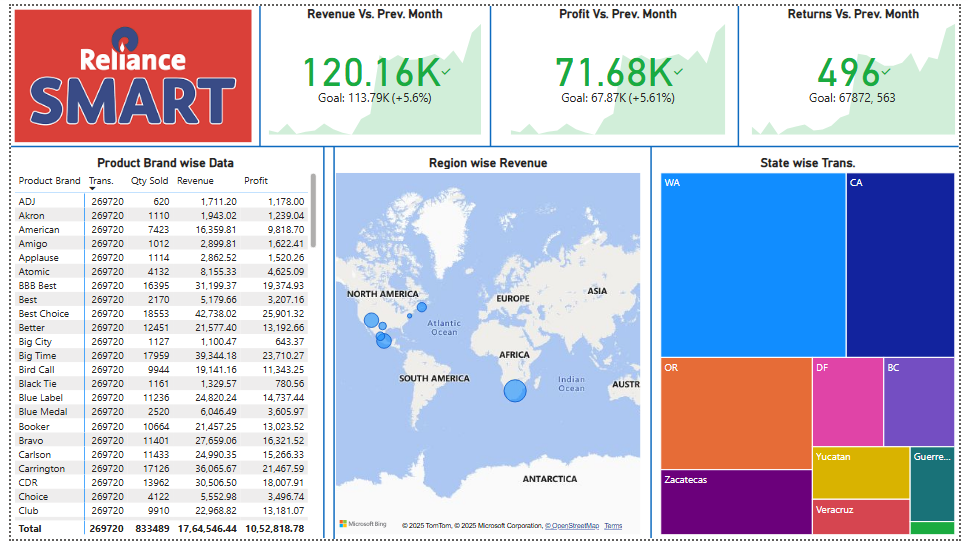

Layout of this report page (visuals, bound fields, positions):
{"tool":"powerbi","page":{"name":"Primary Report","canvas":[1280,720],"ordinal":0},"visuals":[{"type":"image","box":[0,0,329.9,189.6],"z":0},{"type":"shape","box":[0,110.4,1280.6,158.2],"z":1},{"type":"pivotTable","title":"Product Brand wise Data","fields":{"Rows":["d_Products.product_brand"],"Values":["Measures (2).M_All_Transactions","Measures (2).M_Quantity_Sold","Measures (2).M_Total_Revenue","Measures (2).M_Total_Profit"]},"box":[0,201.5,417.9,517.9],"z":2},{"type":"shape","box":[417.9,189.6,10.4,529.9],"z":3},{"type":"map","title":"Region wise Revenue","fields":{"Category":["d_Regions.sales_region"],"Size":["Measures (2).M_Total_Revenue"]},"box":[434.3,201.5,422.4,517.9],"z":4},{"type":"shape","box":[427.9,190.1,16.4,529.9],"z":5},{"type":"shape","box":[856.7,189.6,16.4,529.9],"z":6},{"type":"treemap","title":"State wise Trans.","fields":{"Group":["d_Stores.store_state"],"Values":["Measures (2).M_Total_Transactions"]},"box":[873.1,201.5,407.5,517.9],"z":7},{"type":"shape","box":[329.9,0,13.4,189.6],"z":8},{"type":"kpi","title":"Revenue Vs. Prev. Month","fields":{"Indicator":["Measures (2).M_Total_Revenue"],"TrendLine":["d_Calendar.Start of Month"],"Goal":["Measures (2).M_Previous_Month_Revenue"]},"box":[343.3,0,297,179.1],"z":9},{"type":"shape","box":[640.3,0,14.9,189.6],"z":10},{"type":"kpi","title":"Profit Vs. Prev. Month","fields":{"Indicator":["Measures (2).M_Total_Profit"],"Goal":["Measures (2).M_Previous_Month_Profit"],"TrendLine":["d_Calendar.Start of Month"]},"box":[670.1,0,300,179.1],"z":11},{"type":"shape","box":[970.1,0,25.4,189.6],"z":13},{"type":"kpi","title":"Returns Vs. Prev. Month","fields":{"Goal":["Measures (2).M_Previous_Month_Profit","Measures (2).M_Previous_Month_Returns"],"TrendLine":["d_Calendar.Start of Month"],"Indicator":["Measures (2).M_Total_Returns"]},"box":[995.5,0,285.1,179.1],"z":14}]}

Visuals, with their boxes in screenshot pixels (x1, y1, x2, y2), scaled from the page's 1280x720 canvas onto the 968x547 screenshot:
image: bbox=[0, 0, 249, 144]
shape: bbox=[0, 84, 967, 204]
"Product Brand wise Data" pivotTable: bbox=[0, 153, 316, 546]
shape: bbox=[316, 144, 324, 546]
"Region wise Revenue" map: bbox=[328, 153, 648, 546]
shape: bbox=[324, 144, 336, 546]
shape: bbox=[648, 144, 660, 546]
"State wise Trans." treemap: bbox=[660, 153, 967, 546]
shape: bbox=[249, 0, 260, 144]
"Revenue Vs. Prev. Month" kpi: bbox=[260, 0, 484, 136]
shape: bbox=[484, 0, 495, 144]
"Profit Vs. Prev. Month" kpi: bbox=[507, 0, 734, 136]
shape: bbox=[734, 0, 753, 144]
"Returns Vs. Prev. Month" kpi: bbox=[753, 0, 967, 136]
